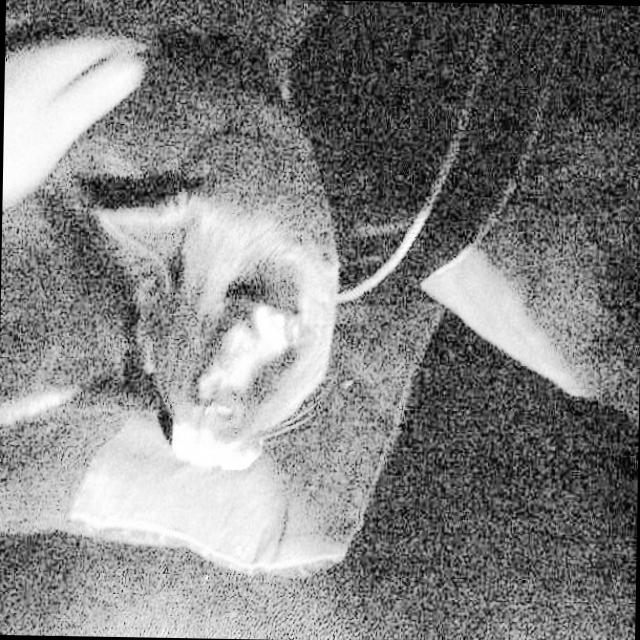Cat: (89, 61, 640, 476)
